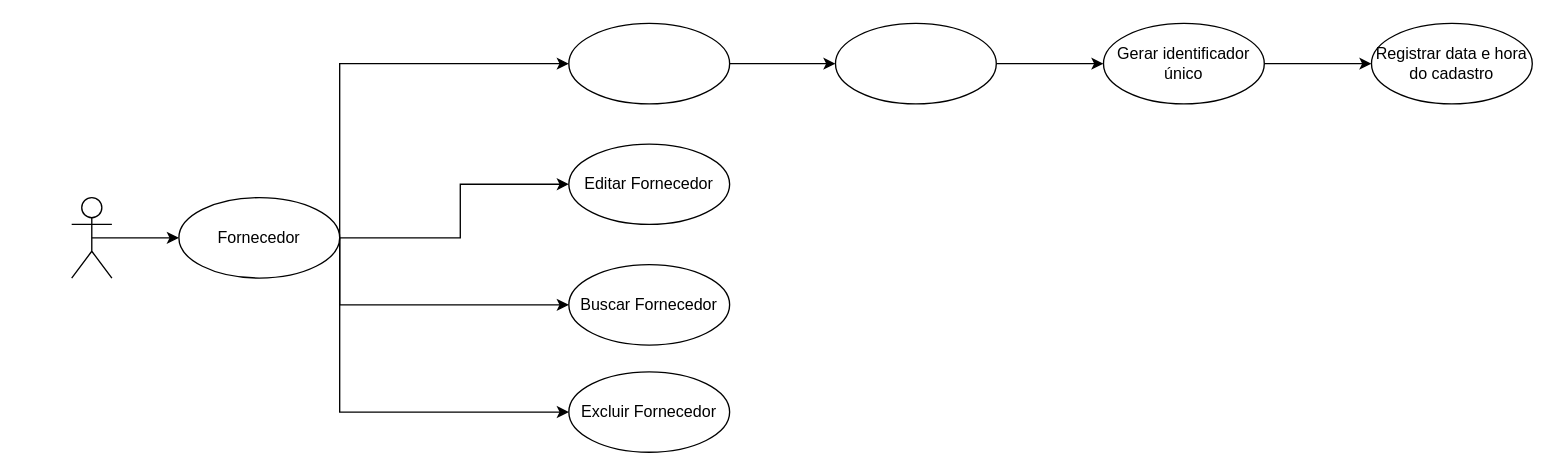
Some shapes in this 1556 by 476 pixel diagram are drawn without their labels. Each missing label, with the centre of its shape:
"Cadastrar fornecedor" goes at (x=648, y=63).
"Gestor da Fazenda" goes at (x=91, y=237).
"Validar dados" goes at (x=915, y=63).
